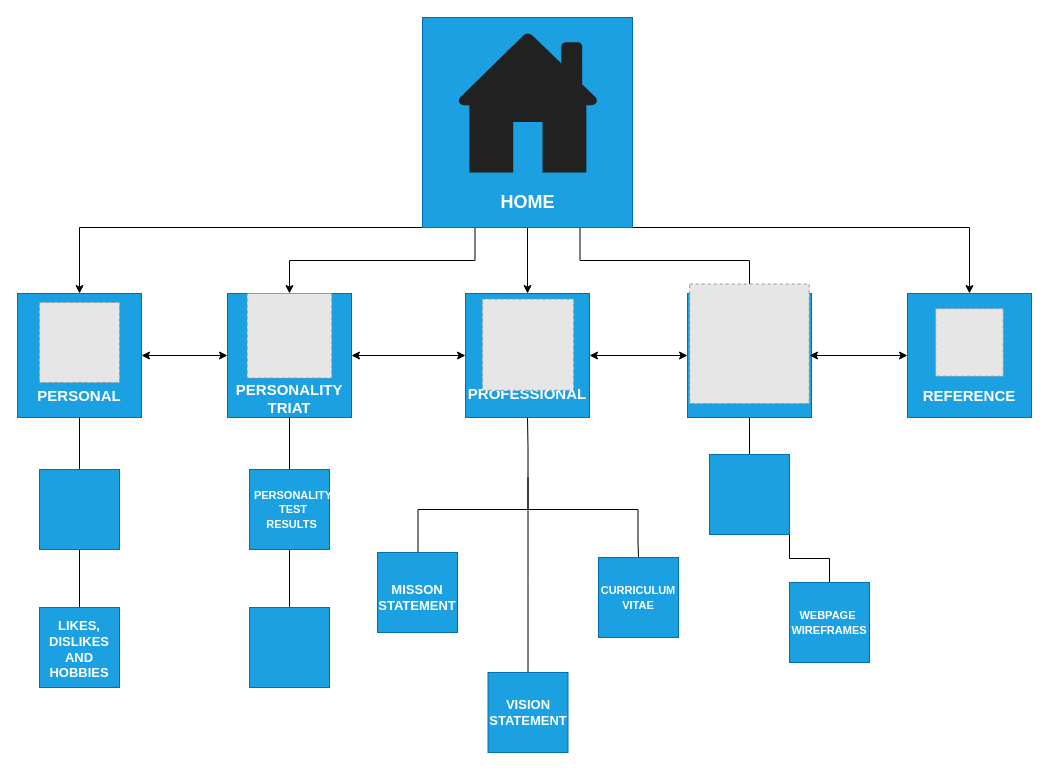
The diagram is 1049 pixels wide and 770 high, and some of its shapes have lost their labels. Grey dashed boxes stand in for pictures. The centre of each missing label's shape, as x and y in pixels:
"REFLECTION ON PERSONALITY TEST" belongs at point 289,647.
"TRAITS AND EMOTIONS" belongs at point 79,509.
"WIRE FRAME" belongs at point 749,494.
